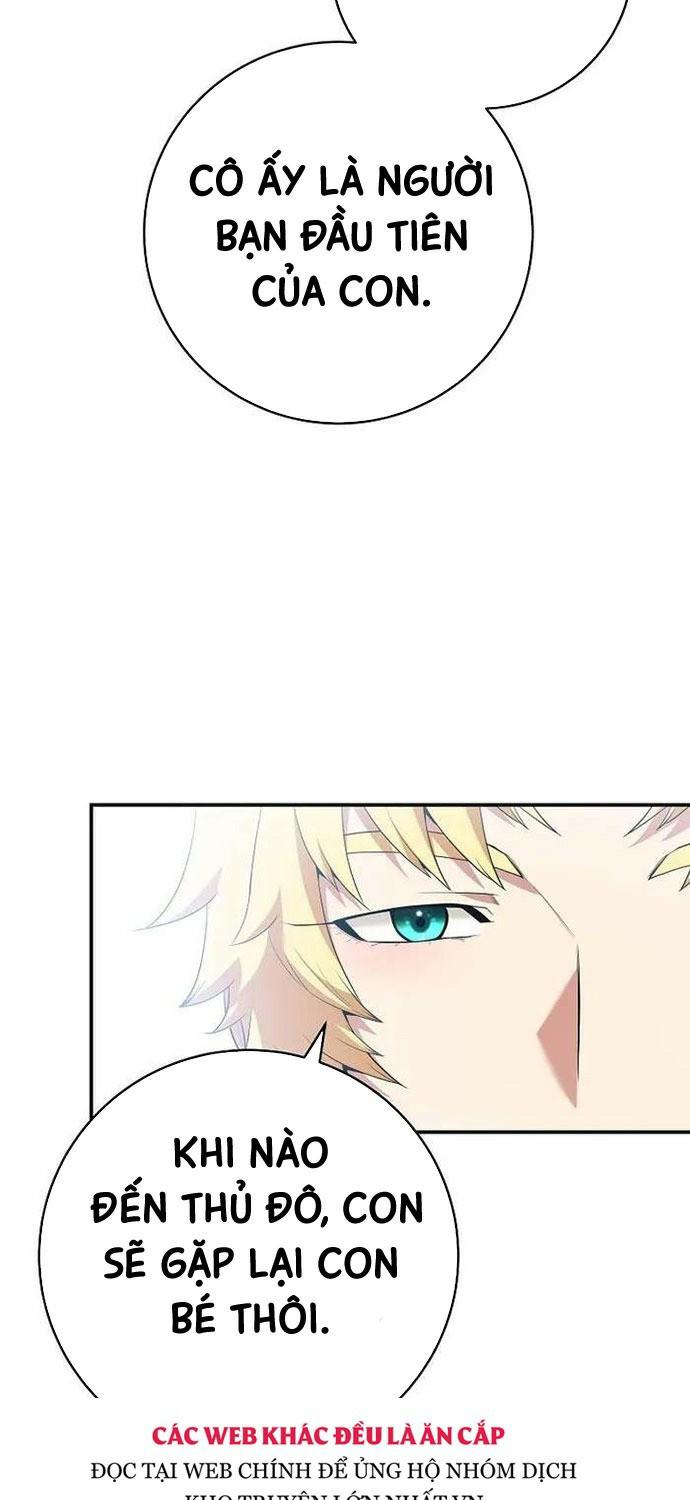quangcao: (82, 1414, 612, 1498)
